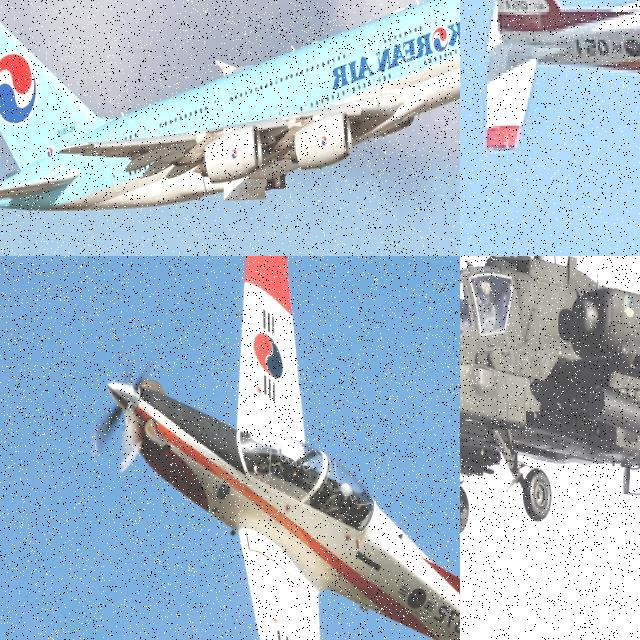A380: (0, 0, 460, 217)
Apache: (460, 256, 640, 542)
KT-1: (93, 256, 460, 640), (483, 0, 640, 256)
